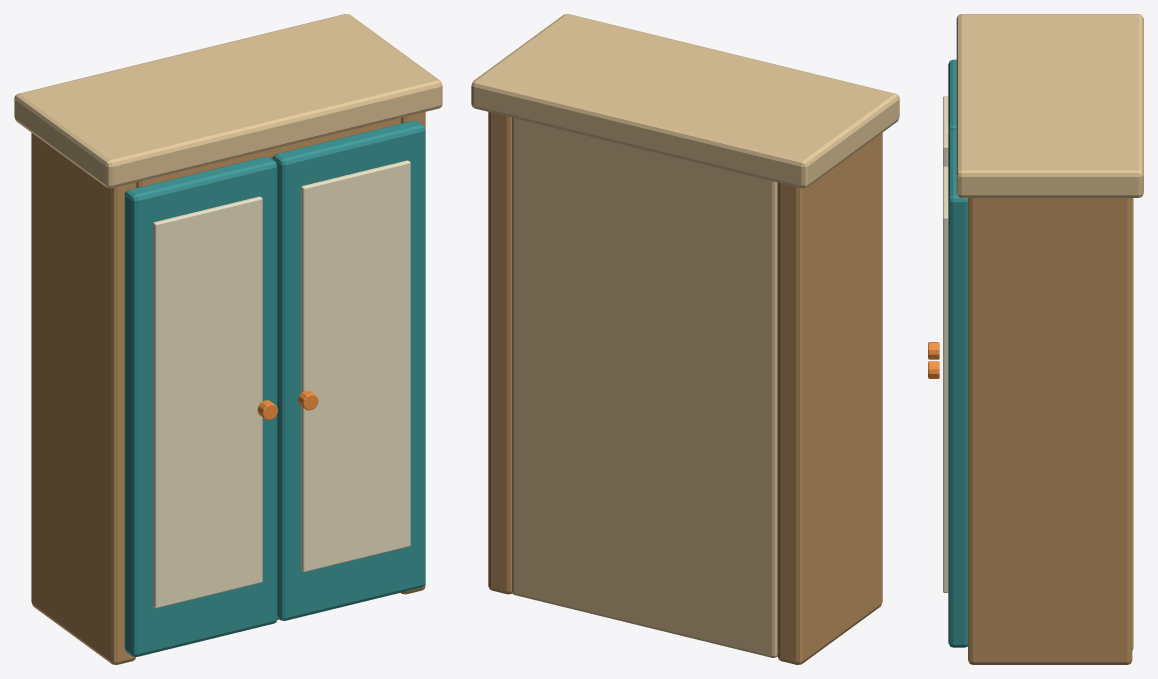
File: S035_wardrobe_cabinet.glb
The picture shows the model from 3 angles, left to right: view 1: azimuth 30°, elevation 25°; view 2: azimuth 150°, elevation 25°; view 3: azimuth 270°, elevation 25°; orthographic projection. The views are drawn at different scales.
Parts seen in each view (by area): view 1: shelf_side, wardrobe_inset, wardrobe_inset.001, wardrobe_cornice, wardrobe_door, wardrobe_door.001, shelf_board.003; view 2: shelf_back, shelf_side, wardrobe_cornice, shelf_side.001; view 3: shelf_side.001, wardrobe_cornice, wardrobe_door.001, wardrobe_inset.001, shelf_back, wardrobe_door, wardrobe_inset.
Part boxes in pixels (x1,y1,x2,y2): shelf_side: (31, 133, 136, 664); wardrobe_inset: (153, 196, 262, 608); wardrobe_inset.001: (301, 160, 410, 572); wardrobe_cornice: (14, 14, 442, 188); wardrobe_door: (124, 156, 277, 656); wardrobe_door.001: (272, 120, 425, 620); shelf_board.003: (136, 118, 400, 187); shelf_back: (512, 117, 777, 657); shelf_side: (777, 133, 882, 664); wardrobe_cornice: (471, 14, 899, 188); shelf_side.001: (488, 112, 512, 594); shelf_side.001: (968, 198, 1132, 664); wardrobe_cornice: (956, 14, 1143, 197); wardrobe_door.001: (948, 130, 967, 647); wardrobe_inset.001: (943, 166, 948, 592); shelf_back: (1132, 198, 1133, 650); wardrobe_door: (948, 59, 956, 134); wardrobe_inset: (943, 96, 948, 166).
Size of the model in its own units: 1.5 by 2.18 by 0.8525.
